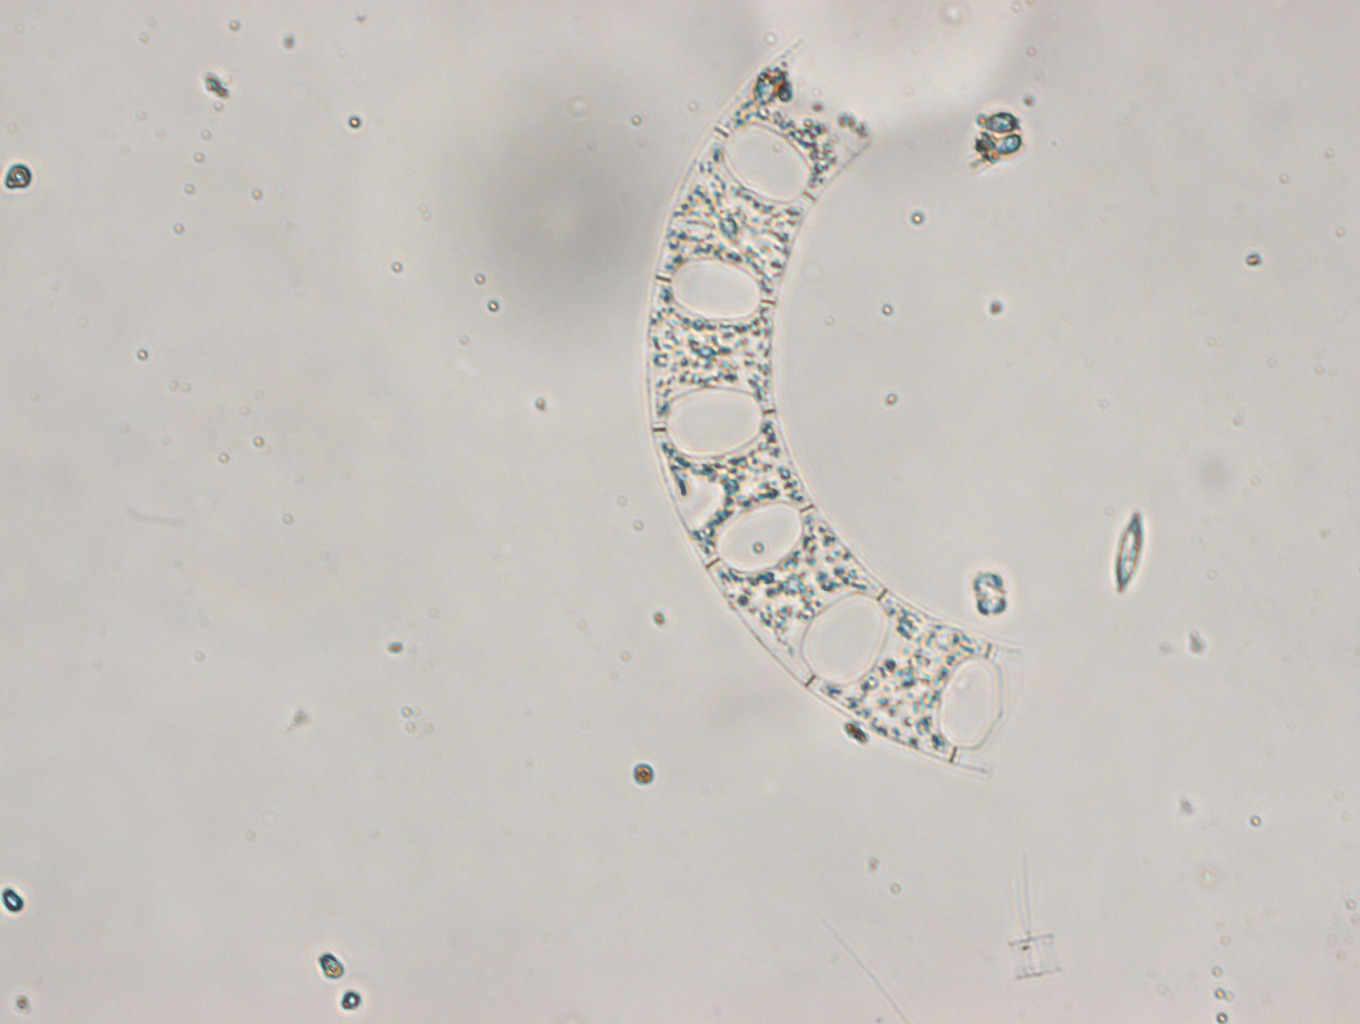chaetoceros: (1002, 855, 1060, 983)
eucampia: (639, 35, 1020, 777)
